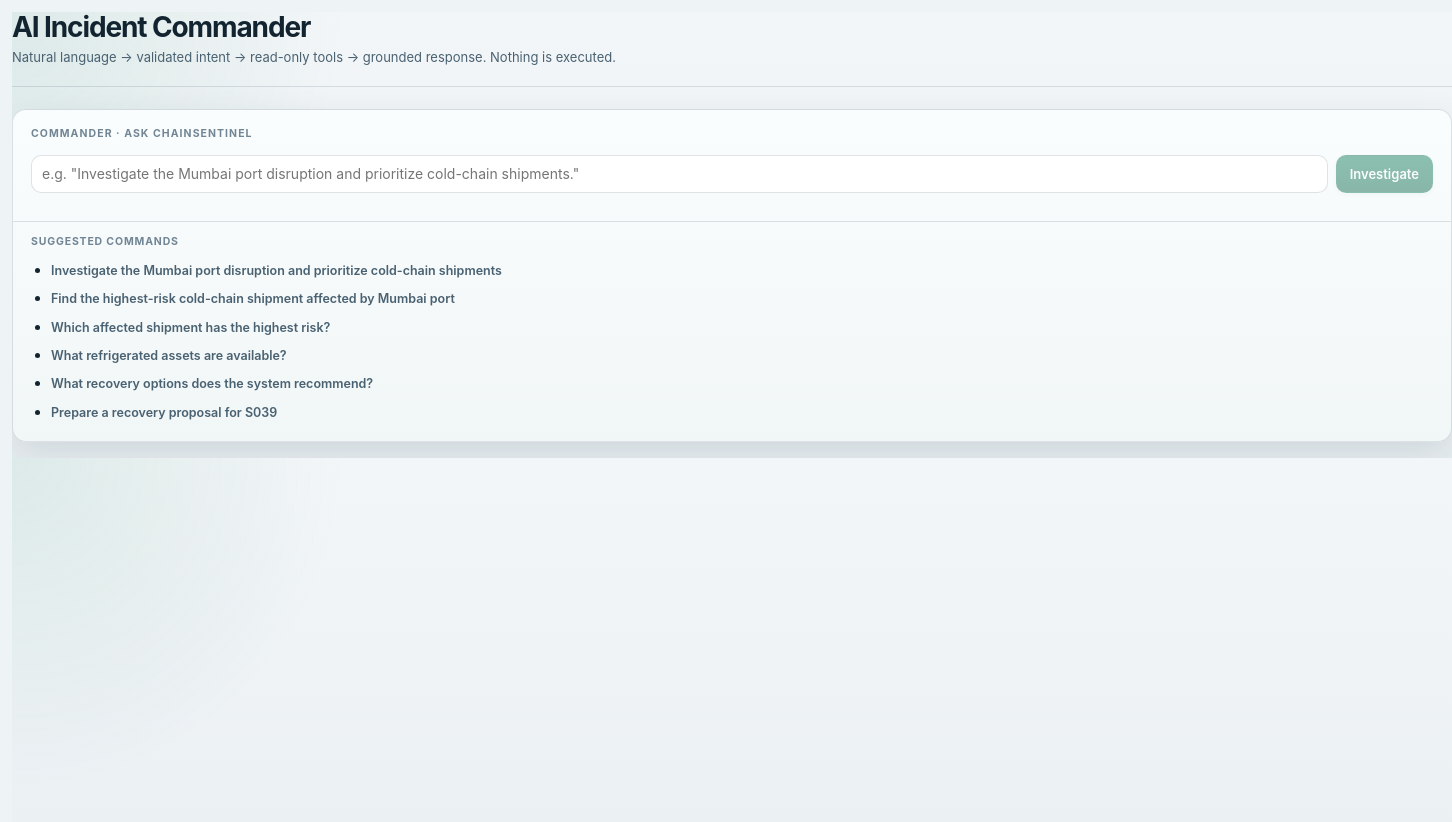
Scenario: AI Incident Commander screen › renders the standard API error envelope
Replace the text in the field with placeholder "Investigate the Mumbai" with "Investigate the Mumbai port disruption and prioritize cold-chain shipments." at (679, 174), box [31,155,1328,193]
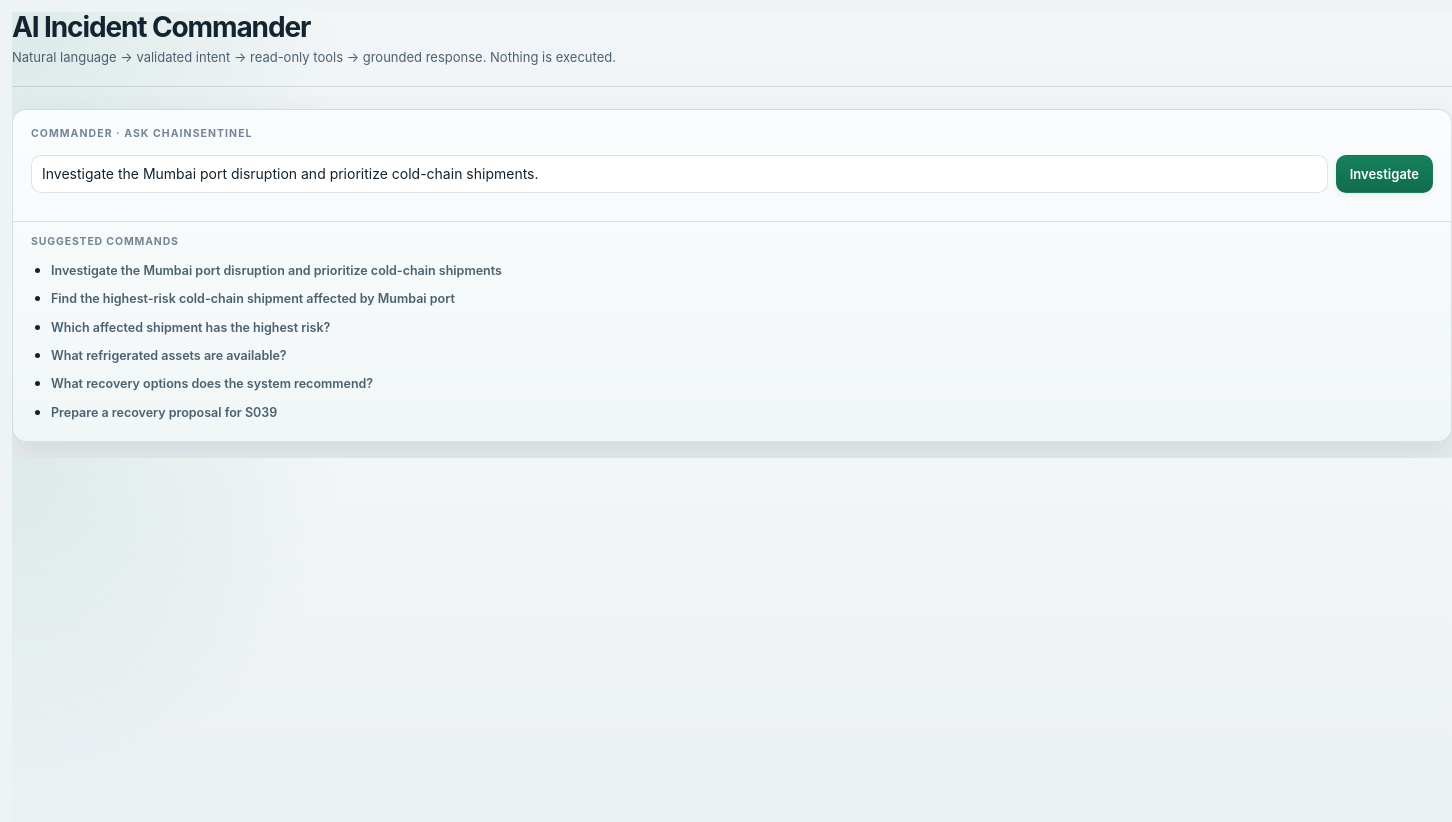
Click the button "Investigate" at (1384, 174), box [1336,155,1433,193]
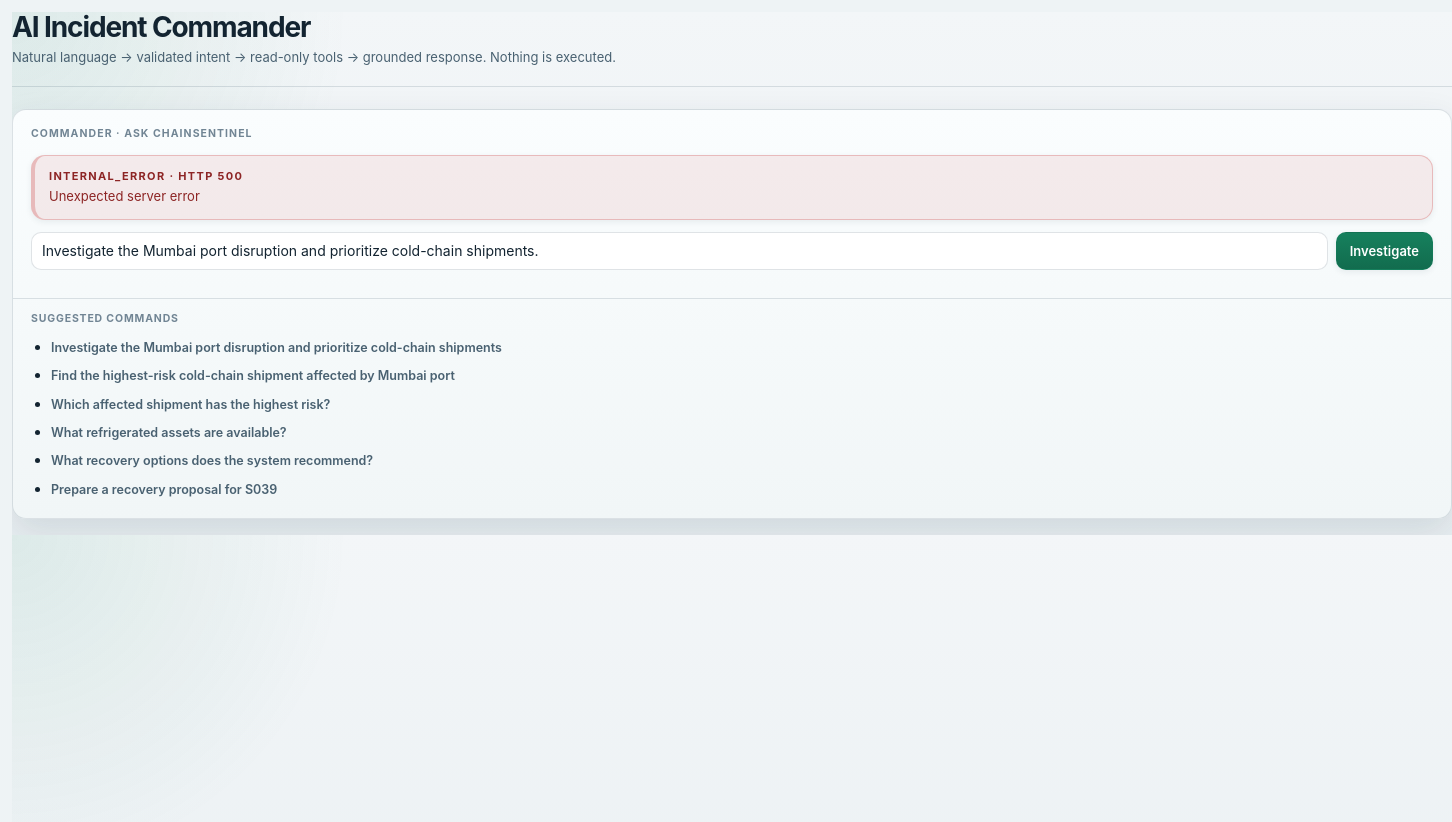
Expected: the text "INTERNAL_ERROR · HTTP 500" is shown, [49,169,243,183]
Expected: the text "INTERNAL_ERROR · HTTP 500 Unexpected server error" is shown, [31,155,1433,220]
